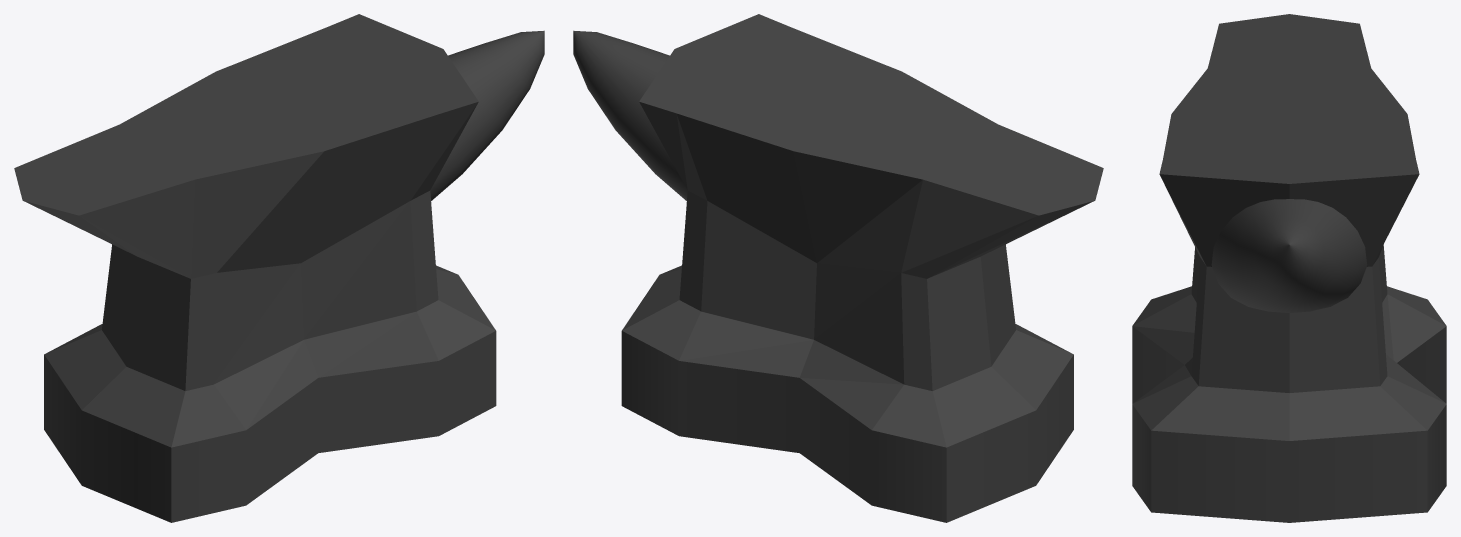
The model's file is Anvil.FBX.
3 views of the same model, side by side, from view 1: azimuth 30°, elevation 25°; view 2: azimuth 150°, elevation 25°; view 3: azimuth 270°, elevation 25° (orthographic). The views are drawn at different scales.
Parts seen in each view (by area): view 1: Cone001; view 2: Cone001; view 3: Cone001.
Boxes of the visible parts, x1=… form: Cone001: x1=14, y1=14, x2=544, y2=522; Cone001: x1=573, y1=14, x2=1103, y2=522; Cone001: x1=1132, y1=14, x2=1446, y2=522.
Size of the model in its own units: 82.57 by 52.65 by 39.66.
